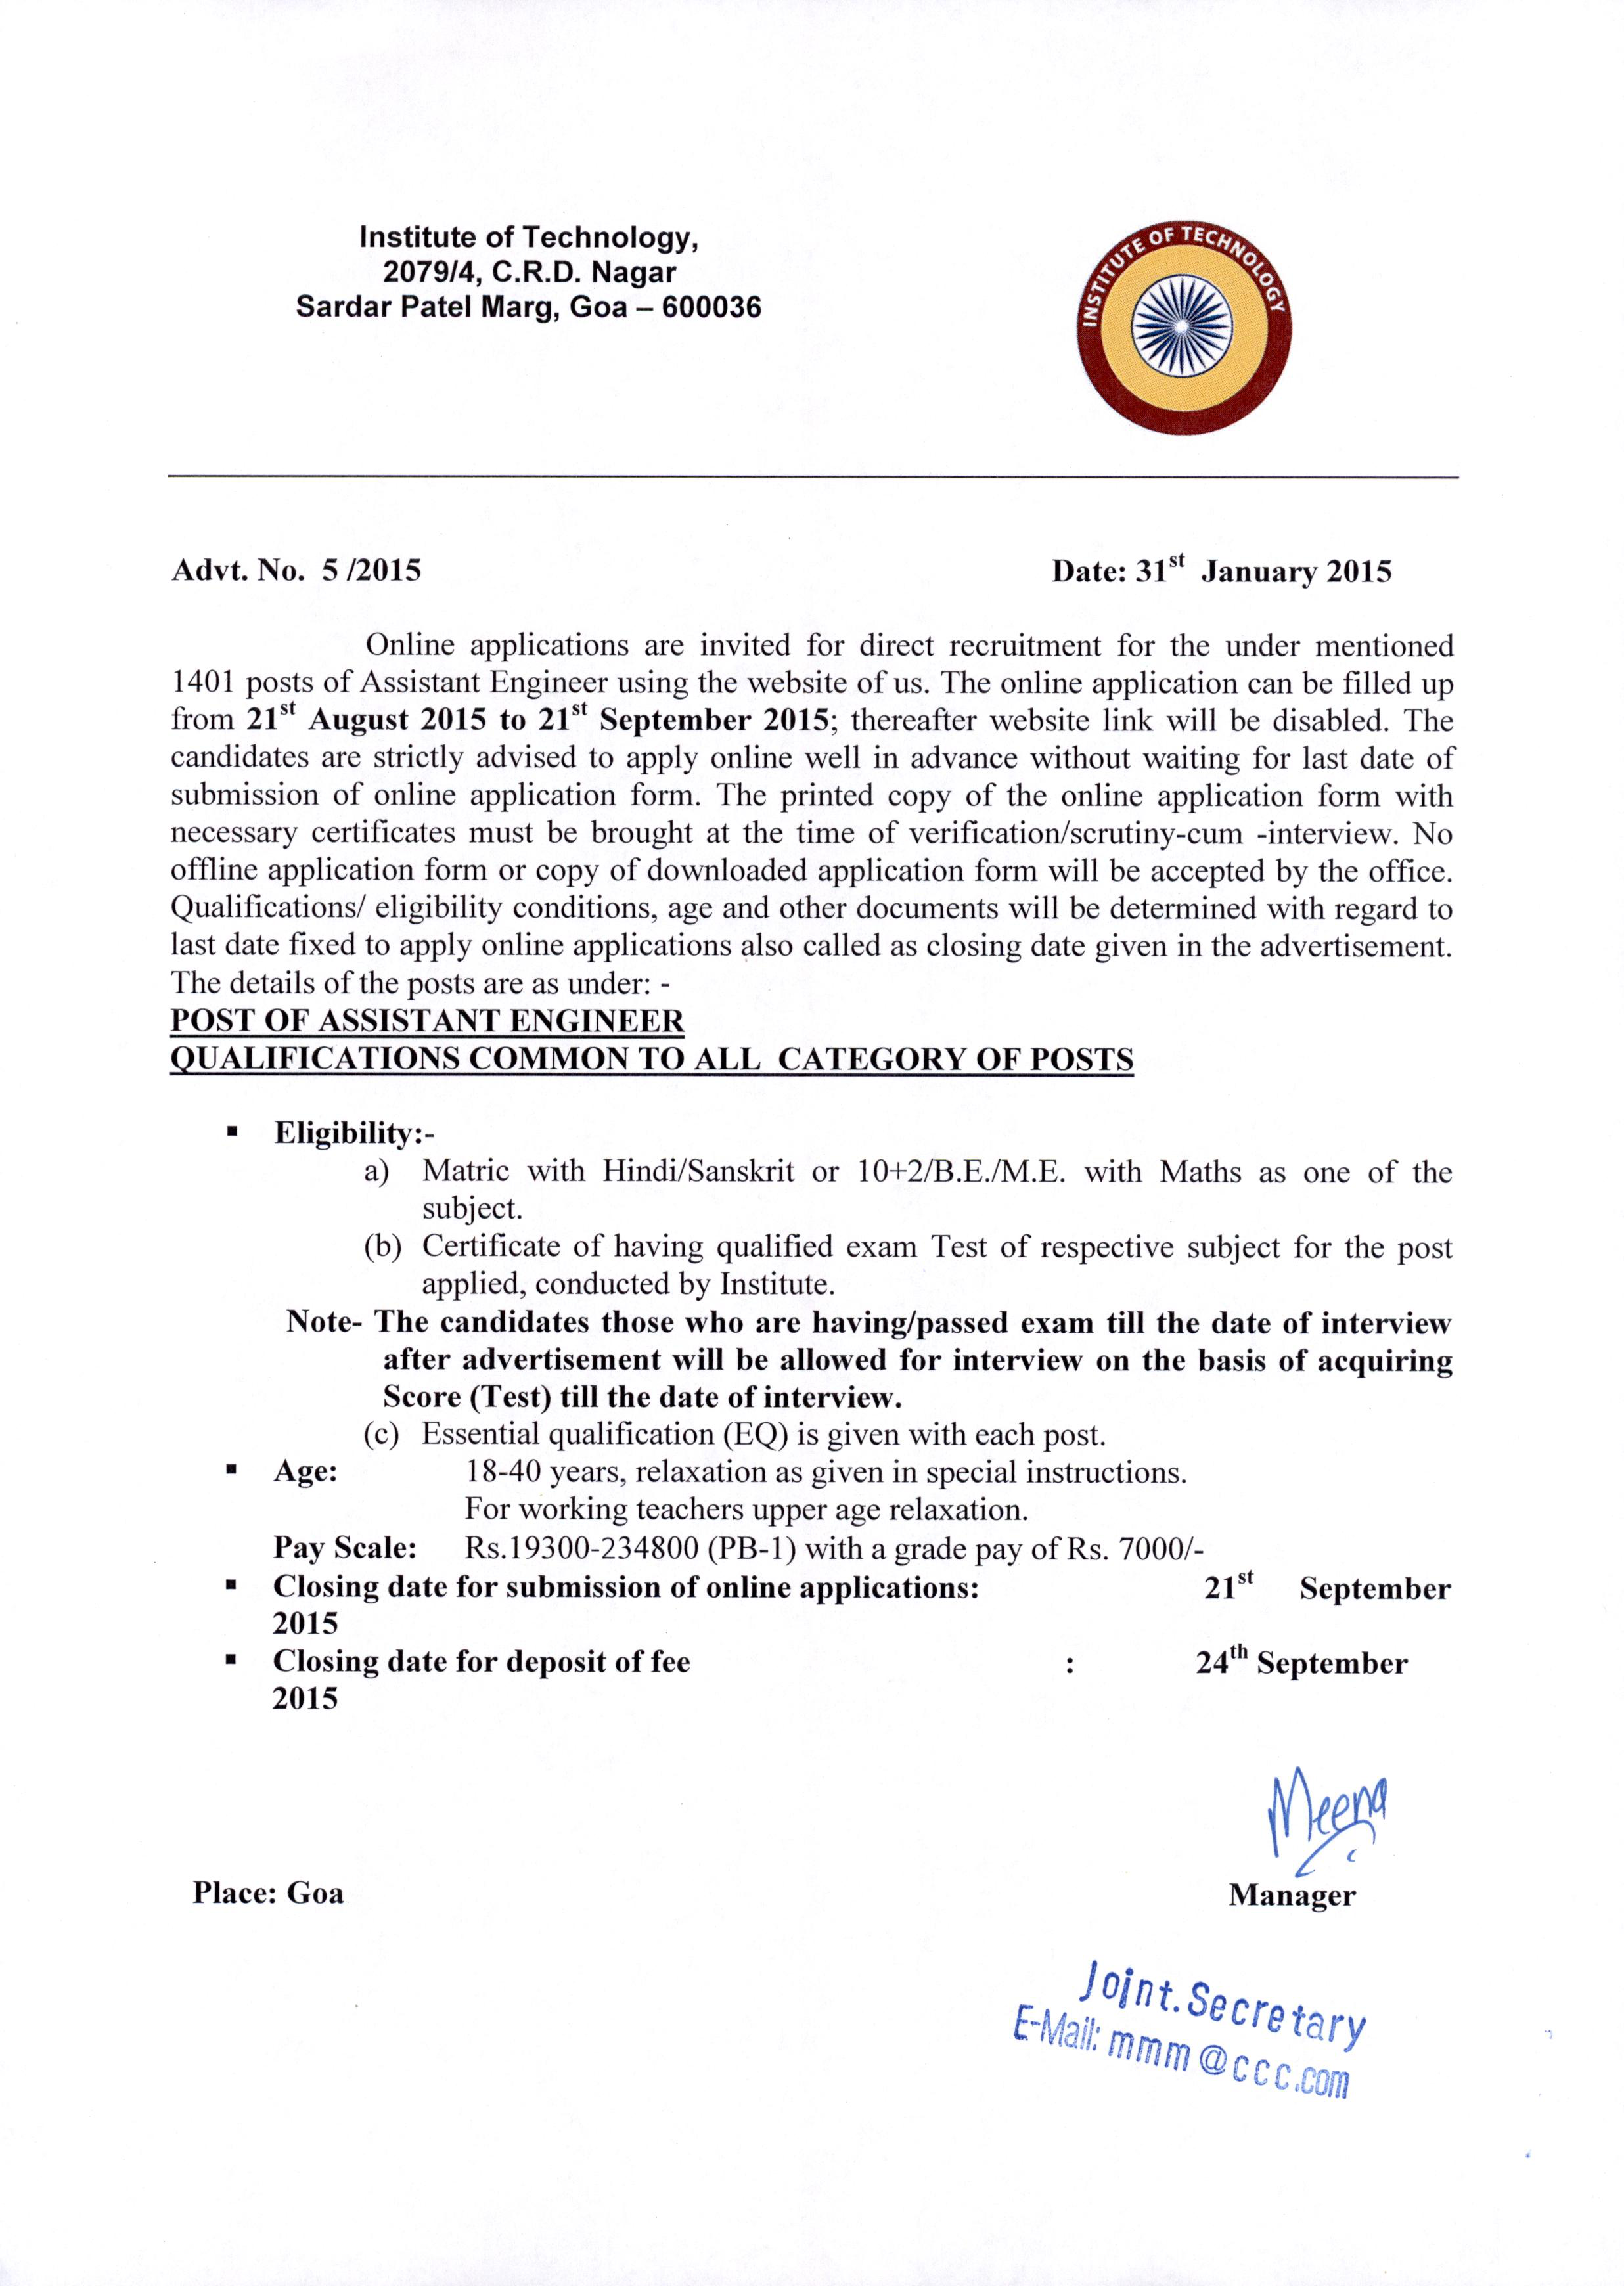Signature: (1260, 1757, 1401, 1880)
